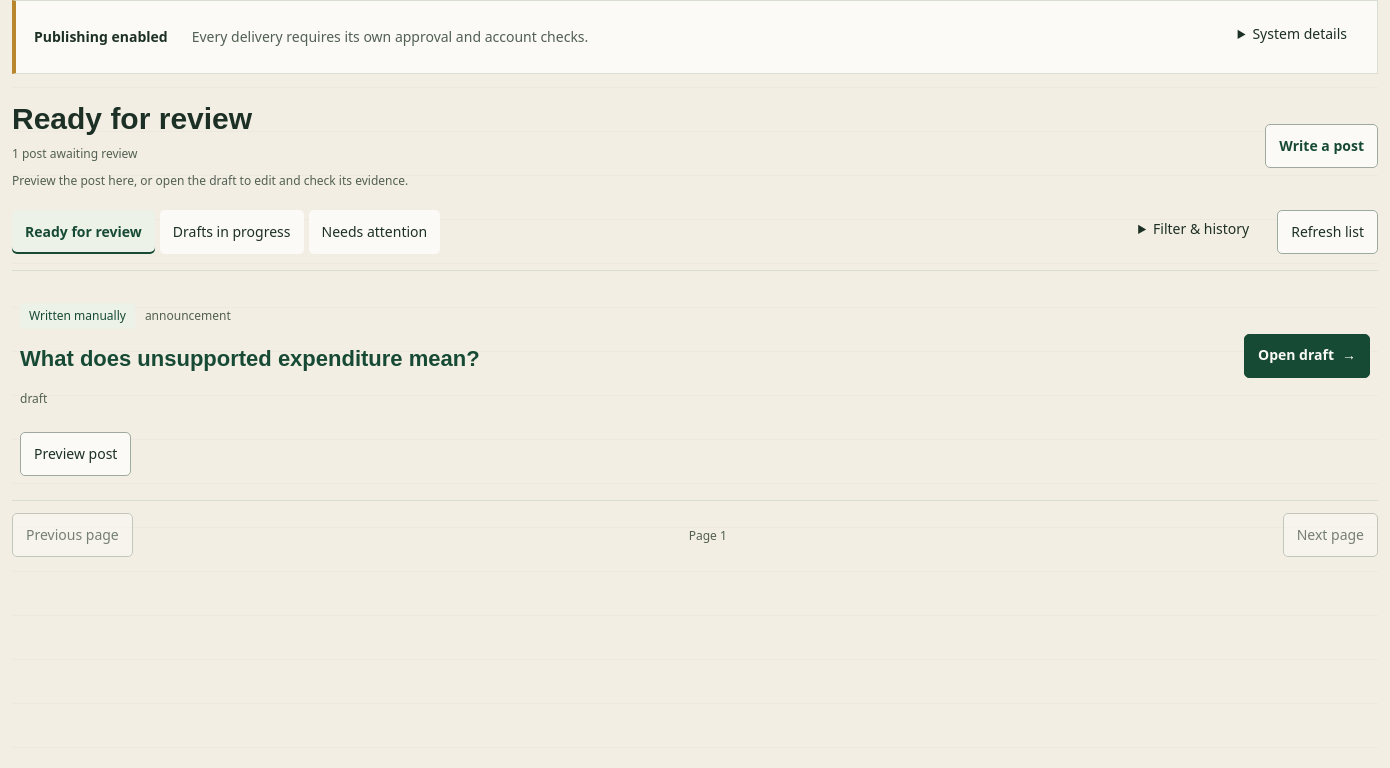
Test case: preview loads the saved document on demand and resolves account overrides and the actual destination
Click the button with aria-label "Preview post:" at (76,454), box top-left (20, 432), bottom-right (131, 476)
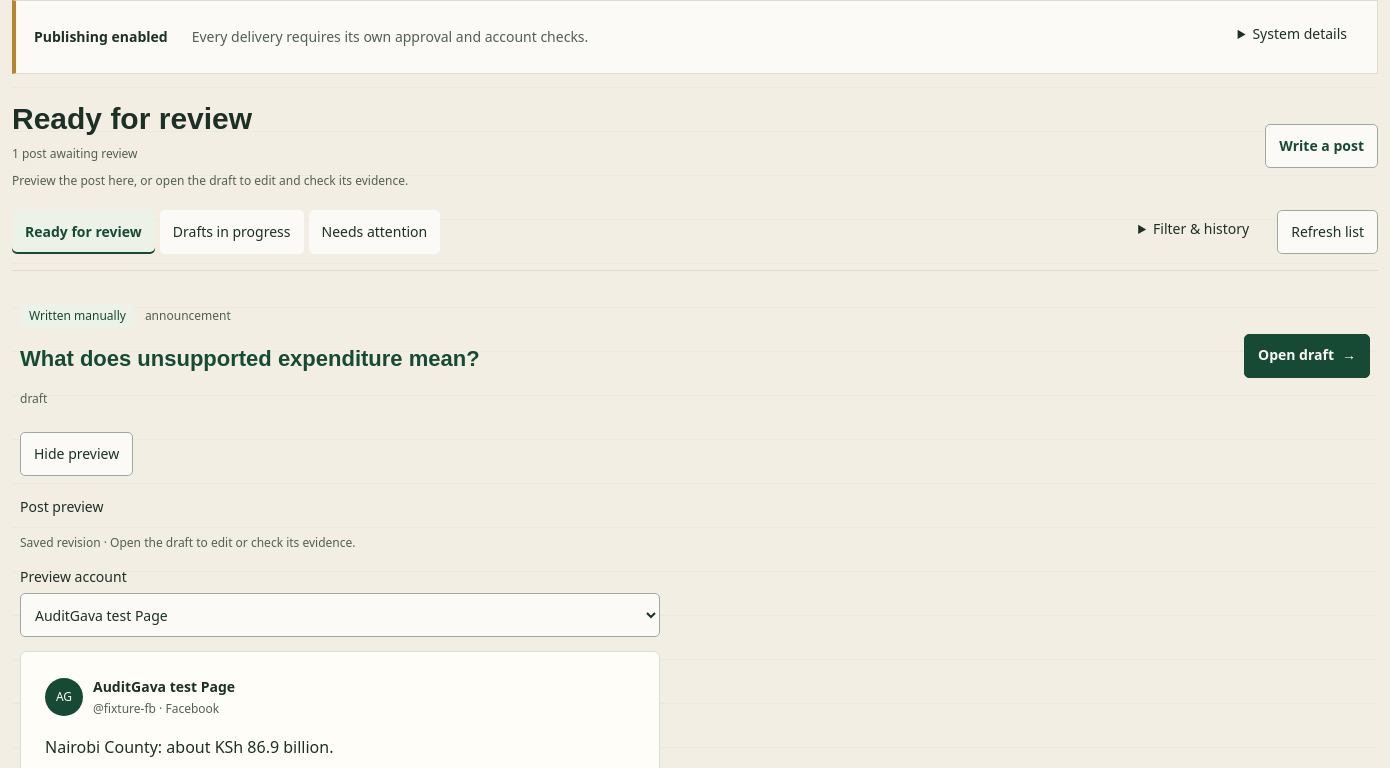
Expected: the text "Nairobi County: about KSh 86.9 billion." is shown, top-left (45, 736), bottom-right (334, 758)
Select "AuditGava test Instagram" in the dropdown labelled "Preview account" at (340,615), box top-left (20, 593), bottom-right (660, 637)
(page scrolled)
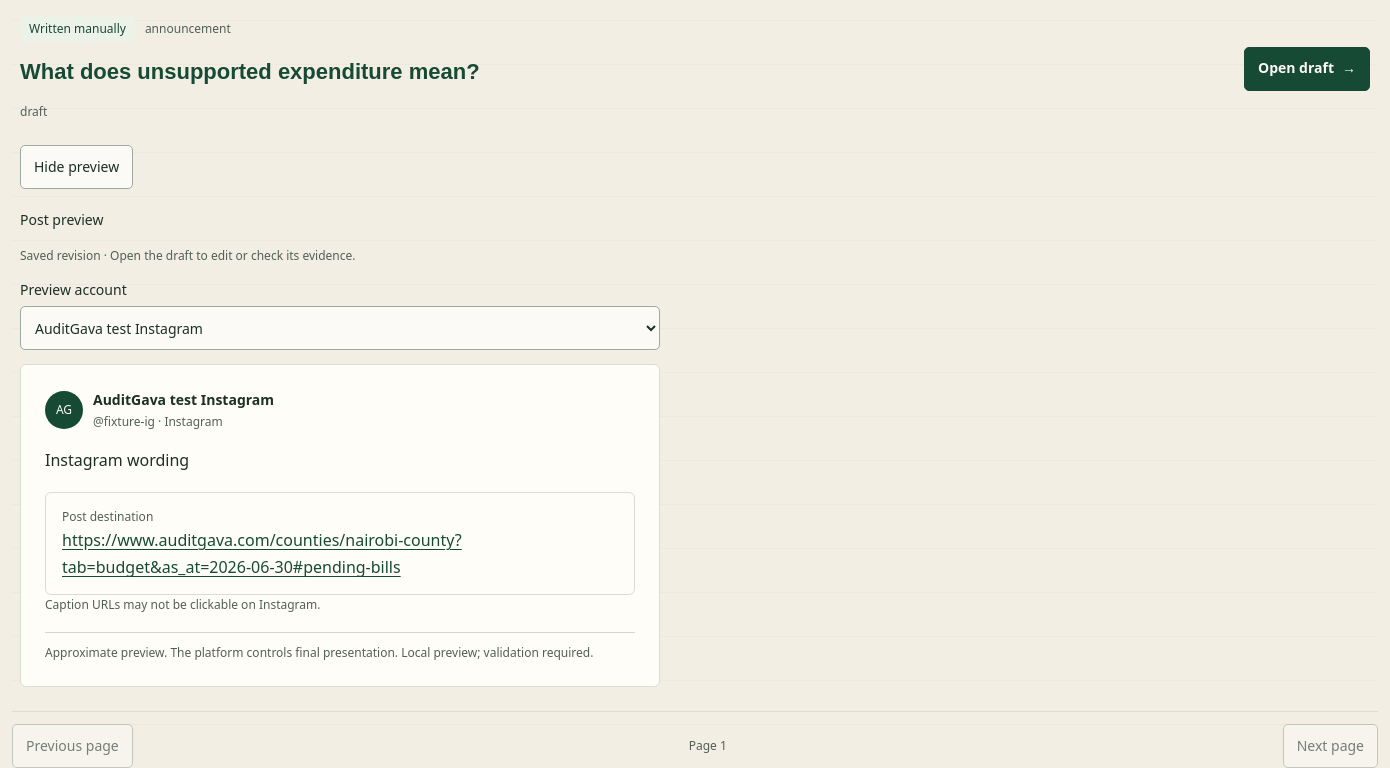
Expected: the text "Instagram wording" is shown, top-left (45, 449), bottom-right (189, 471)
Expected: the text "Caption URLs may not be clickable on Instagram." is shown, top-left (45, 596), bottom-right (320, 613)
